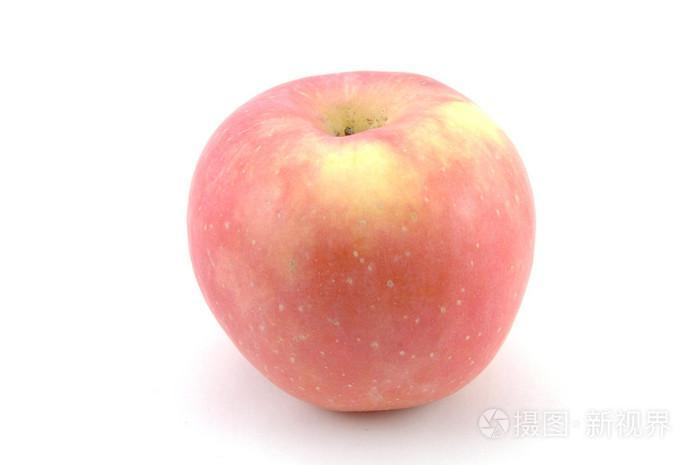apple: (185, 67, 537, 409)
